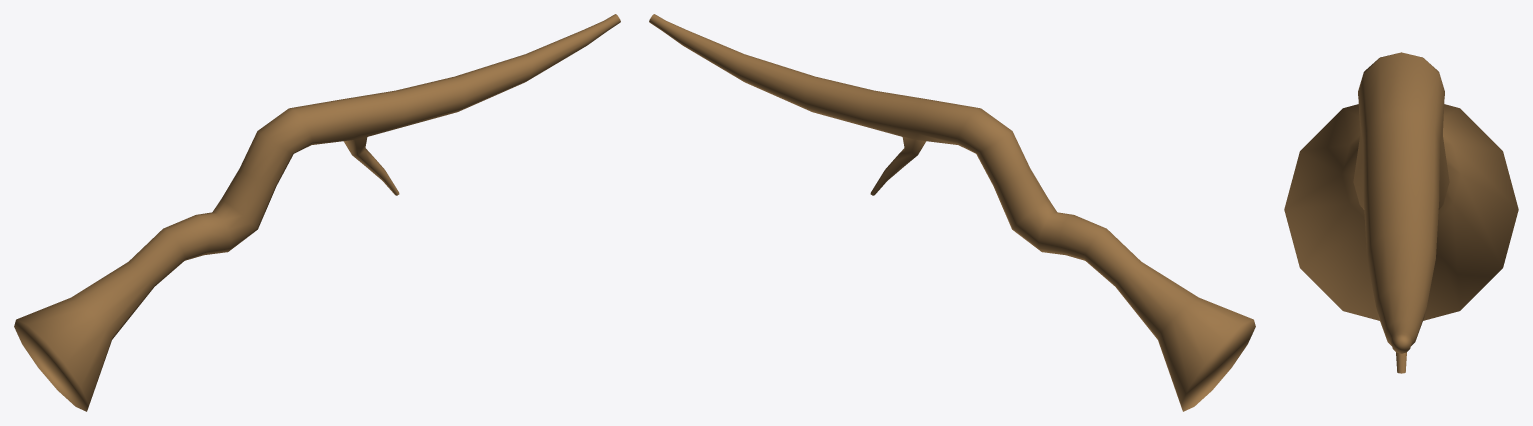
File: arvoreinclinadasemraizes_lv3.fbx
3 views of the same model, side by side, from view 1: azimuth 30°, elevation 25°; view 2: azimuth 150°, elevation 25°; view 3: azimuth 270°, elevation 25° (orthographic). The views are drawn at different scales.
Visible parts, largest first — view 1: avoreinclinada; view 2: avoreinclinada; view 3: avoreinclinada.
Part boxes in pixels (bbox=[...]): avoreinclinada: bbox=[14, 14, 620, 411]; avoreinclinada: bbox=[649, 14, 1255, 411]; avoreinclinada: bbox=[1284, 52, 1518, 373].
Bounding box in the file's own units: 6.32 × 2.65 × 1.08.
